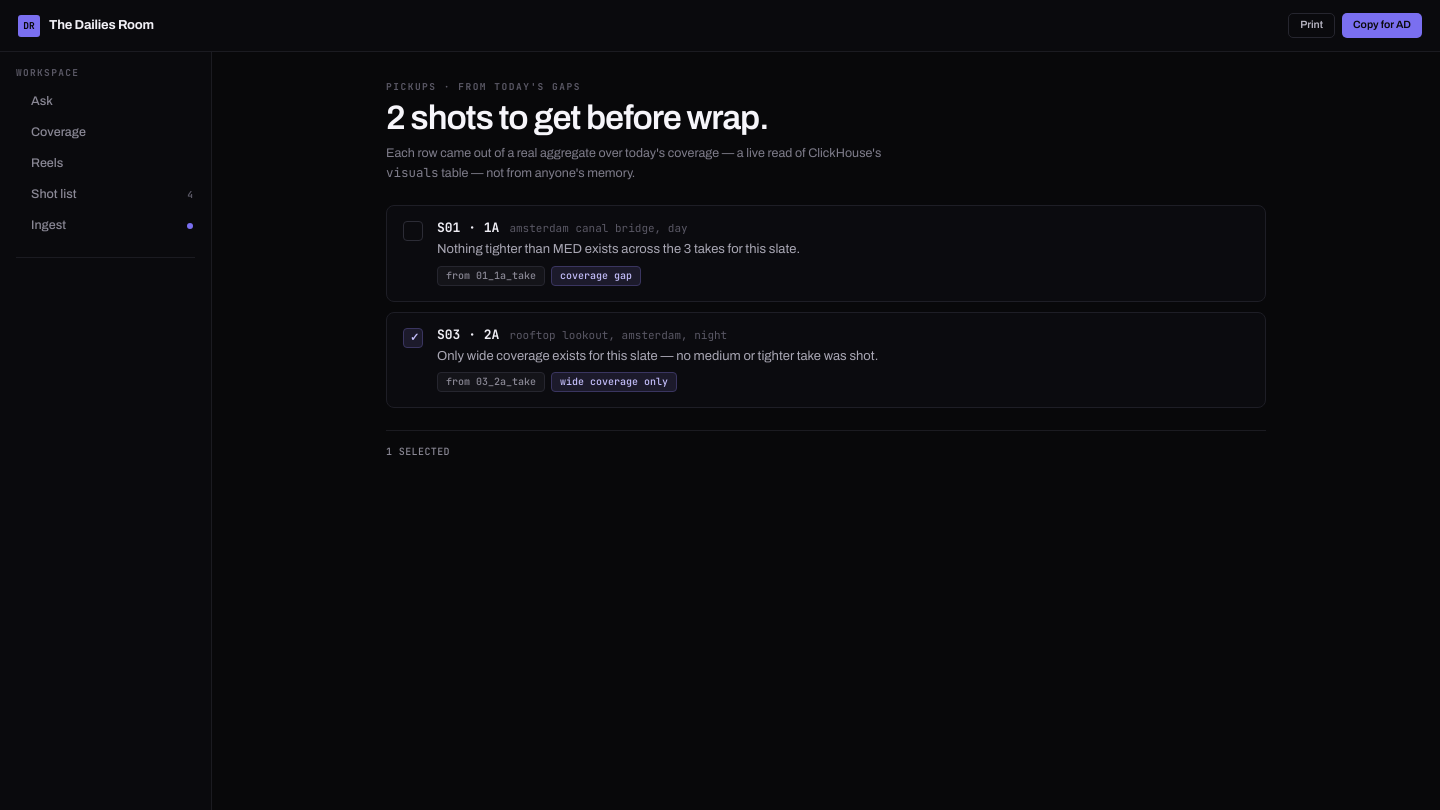
Test: ShotListPage › toggling a checkbox writes the real selection
Check: the text "S01 · 1A" is shown, box [437, 221, 499, 234]
Click the checkbox named "select s01 · 1a": (413,231) [403, 221, 423, 241]
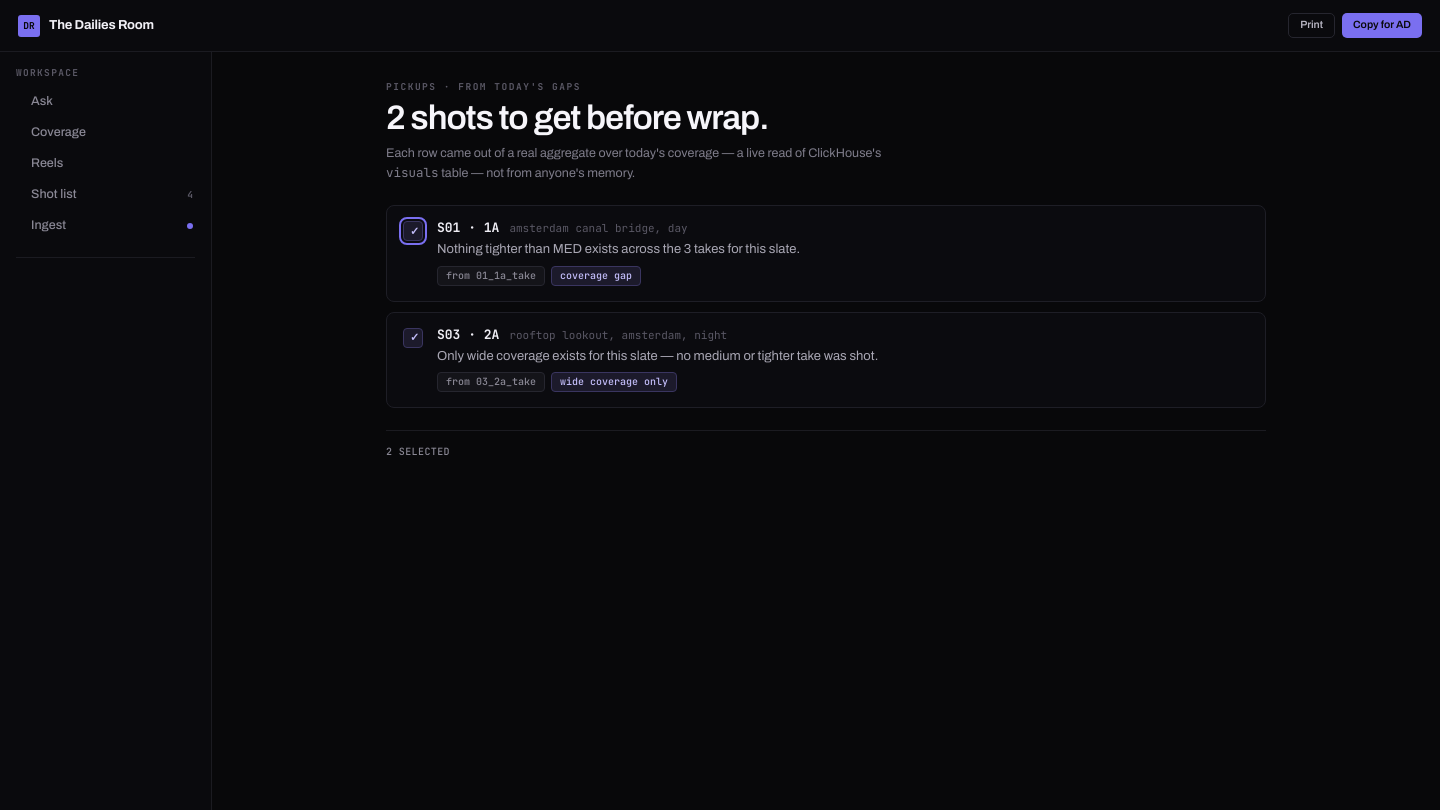
Check: the text "2 SELECTED" is shown, box [386, 447, 450, 457]
